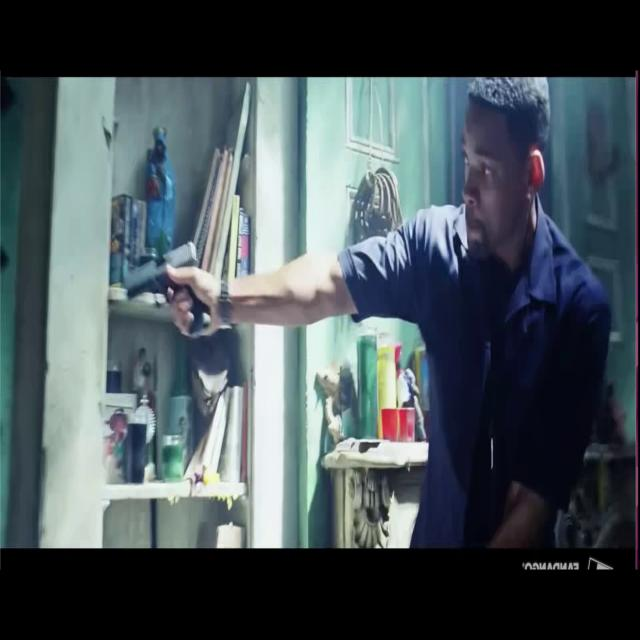weapons: (114, 220, 218, 360)
